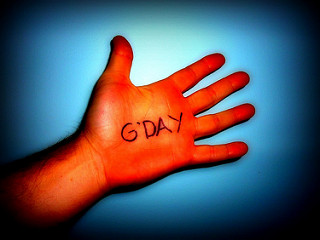palm: (104, 76, 198, 176)
